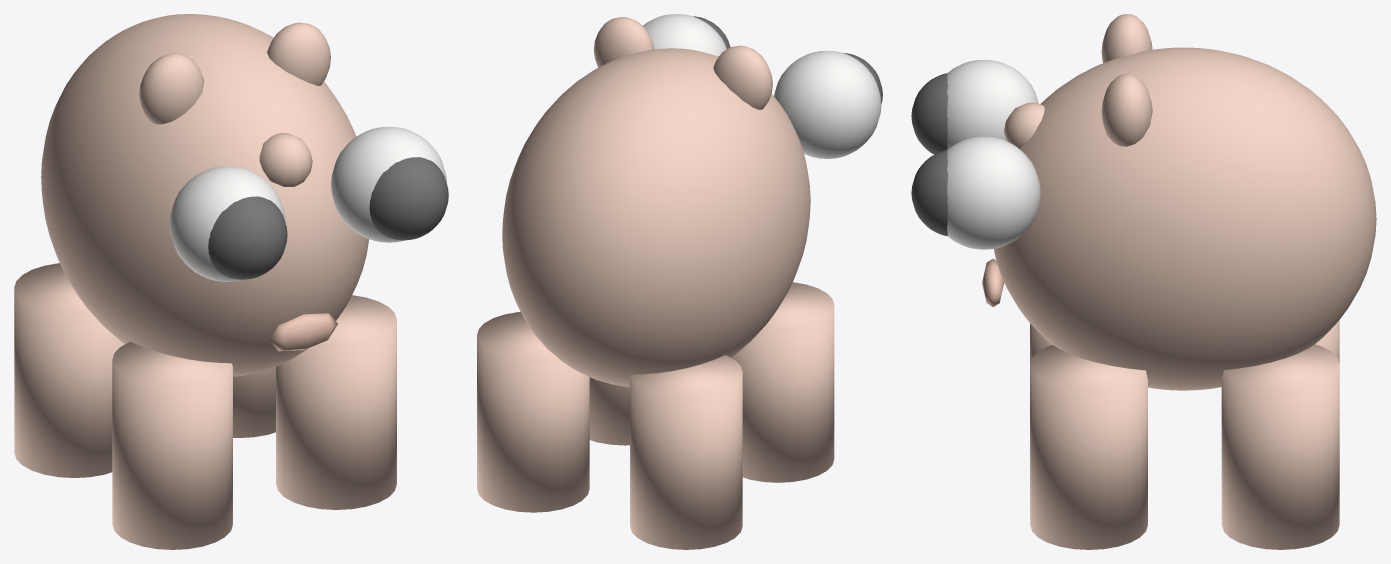
Rendered from capy_base.glb.
3 views of the same model, side by side, from view 1: azimuth 30°, elevation 25°; view 2: azimuth 150°, elevation 25°; view 3: azimuth 270°, elevation 25° (orthographic). The views are drawn at different scales.
Parts seen in each view (by area): view 1: body, leg_FR, leg_FL, leg_BR, eye_white_R, eye_white_L, eye_R, eye_L, ear_R, ear_L, leg_BL, head (+1 smaller); view 2: body, leg_BR, leg_BL, leg_FR, eye_white_R, ear_R, leg_FL, eye_white_L, ear_L; view 3: body, leg_BL, leg_FL, eye_white_L, eye_white_R, ear_L, eye_L, eye_R, ear_R, head, snout.
Boxes of the visible parts, x1=… form: body: x1=41, y1=14, x2=368, y2=376; leg_FR: x1=112, y1=341, x2=232, y2=549; leg_FL: x1=276, y1=295, x2=396, y2=509; leg_BR: x1=14, y1=263, x2=124, y2=477; eye_white_R: x1=169, y1=166, x2=285, y2=281; eye_white_L: x1=331, y1=126, x2=447, y2=242; eye_R: x1=208, y1=196, x2=287, y2=279; eye_L: x1=369, y1=157, x2=448, y2=240; ear_R: x1=139, y1=53, x2=204, y2=124; ear_L: x1=267, y1=22, x2=330, y2=85; leg_BL: x1=233, y1=367, x2=275, y2=437; head: x1=259, y1=133, x2=312, y2=186; body: x1=502, y1=48, x2=810, y2=386; leg_BR: x1=630, y1=355, x2=742, y2=549; leg_BL: x1=477, y1=311, x2=589, y2=512; leg_FR: x1=731, y1=282, x2=834, y2=482; eye_white_R: x1=774, y1=50, x2=881, y2=158; ear_R: x1=713, y1=45, x2=772, y2=109; leg_FL: x1=589, y1=377, x2=629, y2=445; eye_white_L: x1=643, y1=14, x2=726, y2=56; ear_L: x1=593, y1=17, x2=654, y2=67; body: x1=994, y1=47, x2=1376, y2=390; leg_BL: x1=1221, y1=344, x2=1339, y2=549; leg_FL: x1=1030, y1=345, x2=1147, y2=549; eye_white_L: x1=947, y1=136, x2=1040, y2=249; eye_white_R: x1=947, y1=59, x2=1038, y2=149; ear_L: x1=1101, y1=74, x2=1152, y2=146; eye_L: x1=911, y1=150, x2=948, y2=235; eye_R: x1=911, y1=73, x2=948, y2=154; ear_R: x1=1101, y1=14, x2=1152, y2=63; head: x1=1004, y1=102, x2=1044, y2=148; snout: x1=982, y1=258, x2=1004, y2=307.
Bounding box in the file's own units: 0.4988 × 0.8 × 0.7672.
